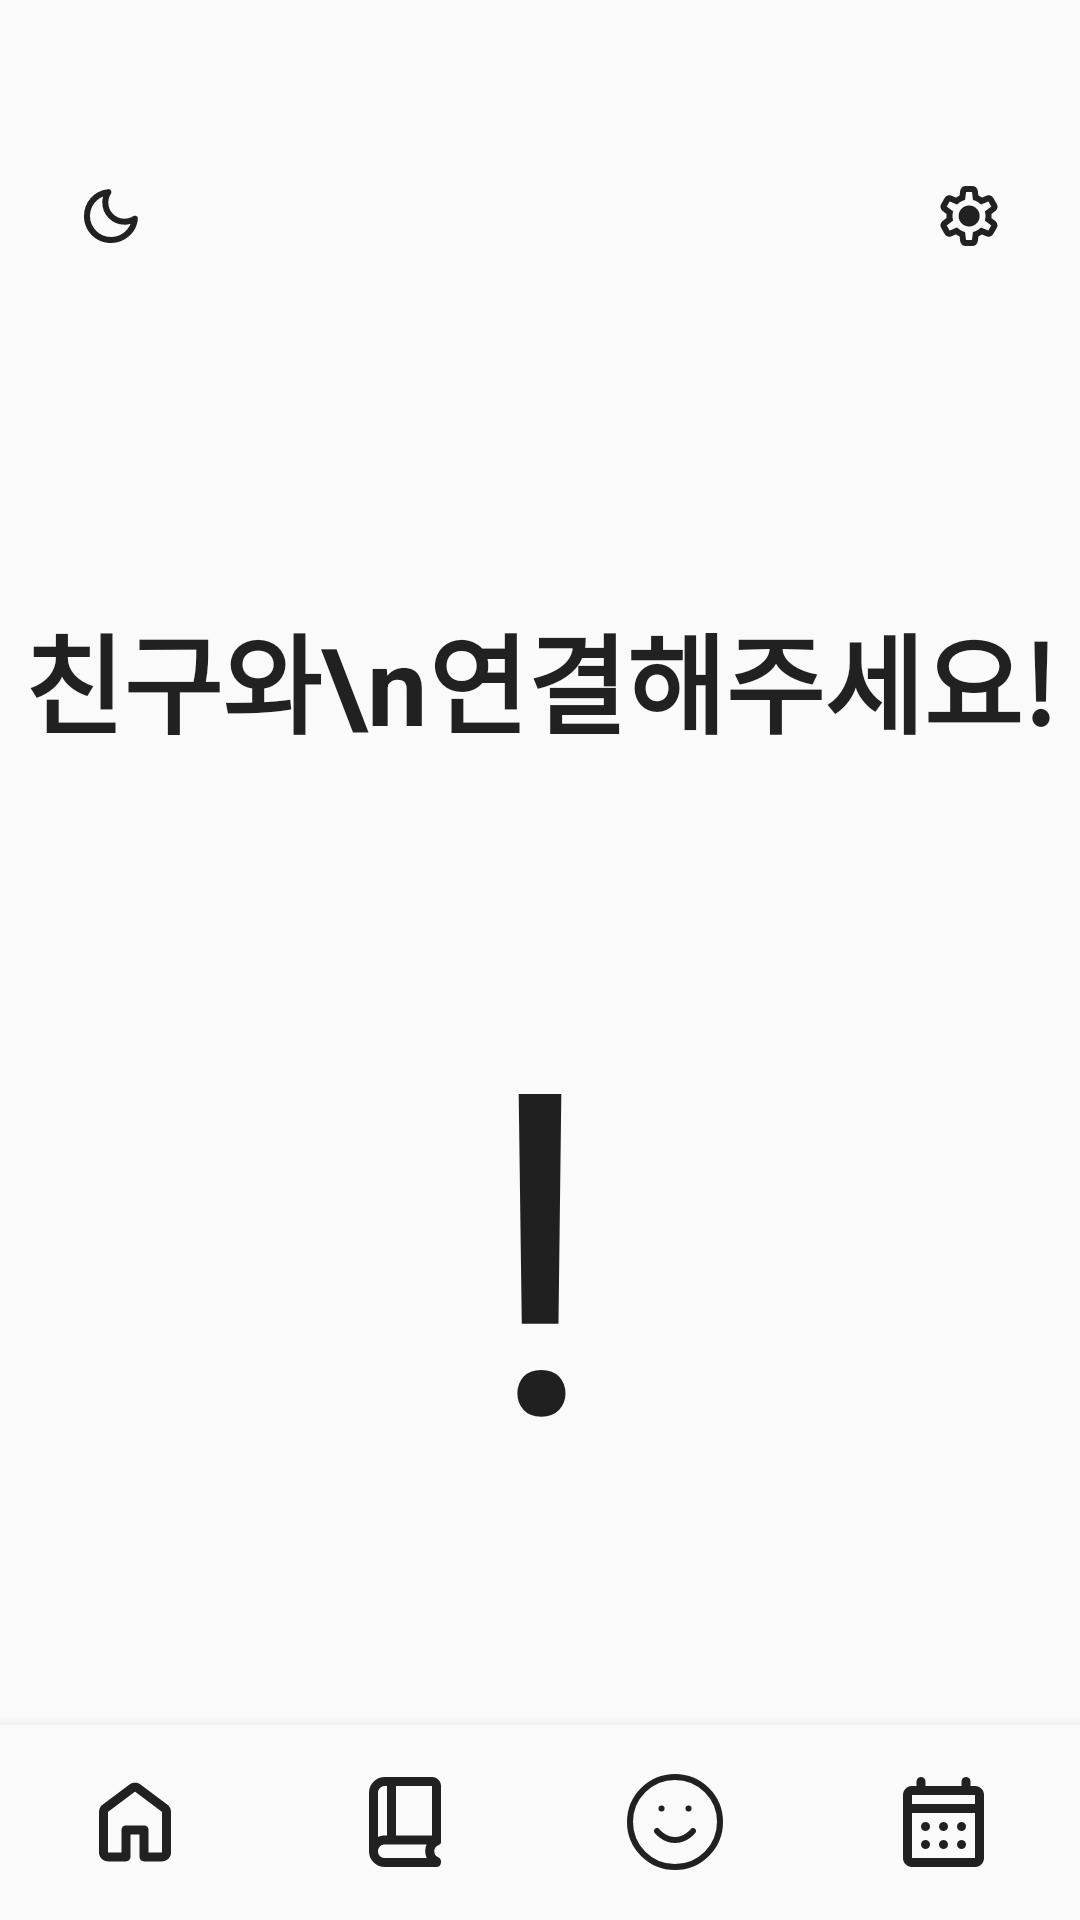

Screen size 1080 x 1920. Icon name, then its box in pixels as [x1=x1, y1=y1, x2=x2, y2=y2]:
darkmode: [x1=84, y1=189, x2=138, y2=243]
setting: [x1=940, y1=186, x2=998, y2=246]
